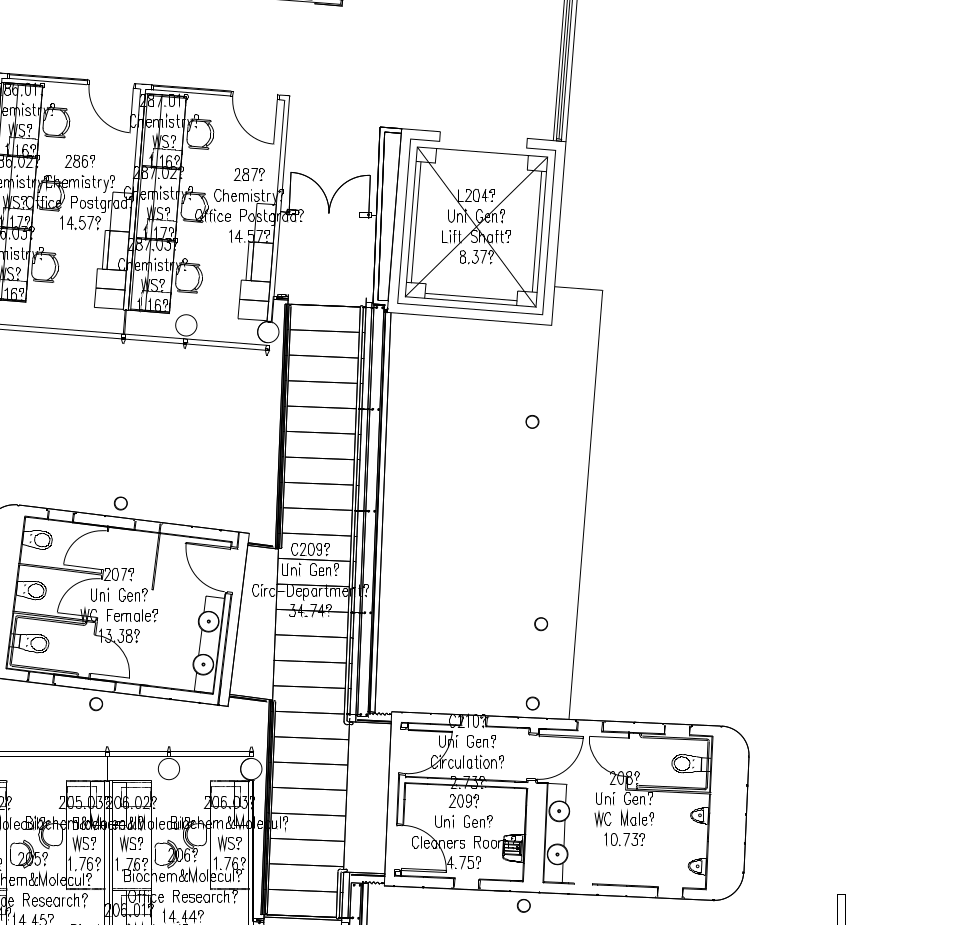door: (286, 163, 372, 219), (84, 76, 136, 141), (226, 90, 278, 155), (181, 542, 232, 595), (59, 524, 110, 577), (58, 564, 109, 617), (86, 628, 137, 681), (396, 821, 447, 874), (404, 727, 455, 780), (534, 729, 585, 782), (587, 732, 638, 785)
